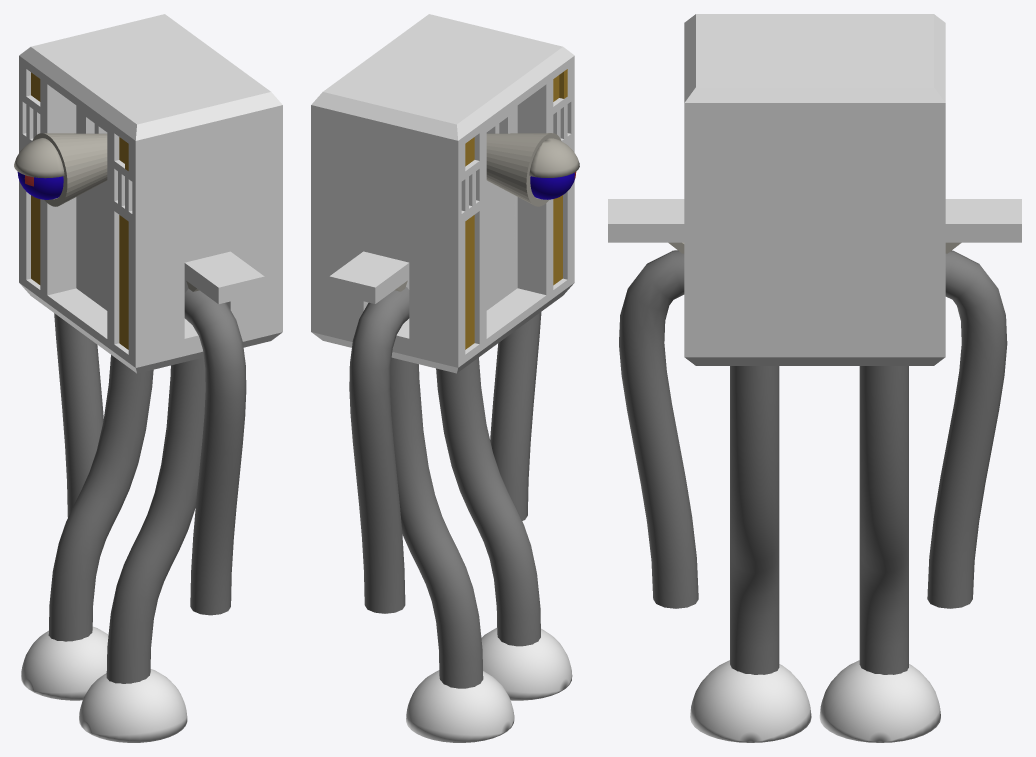
File: robo_buddy_modo_standing.fbx
The picture shows the model from 3 angles, left to right: view 1: azimuth 30°, elevation 25°; view 2: azimuth 150°, elevation 25°; view 3: azimuth 270°, elevation 25°; orthographic projection. The views are drawn at different scales.
Visible parts, largest first — view 1: cuerpo, pierna izquierda.001, BezierCurve.001, pierna derecha.001, BezierCurve, Sphere.002, Sphere.003, Cylinder, Cube.002, Sphere.001, ojo; view 2: cuerpo, BezierCurve, pierna derecha.001, pierna izquierda.001, BezierCurve.001, Sphere.003, Sphere.002, Cylinder, Cube.001, Sphere.001, ojo; view 3: cuerpo, BezierCurve.001, BezierCurve, pierna derecha.001, pierna izquierda.001, Sphere.002, Sphere.003, Cube.001, Cube.002.
Part boxes in pixels (x1,y1,x2,y2): cuerpo: [19, 14, 282, 373]; pierna izquierda.001: [106, 357, 205, 683]; BezierCurve.001: [184, 289, 246, 615]; pierna derecha.001: [48, 355, 153, 641]; BezierCurve: [54, 313, 103, 516]; Sphere.002: [79, 669, 187, 742]; Sphere.003: [21, 626, 108, 700]; Cylinder: [32, 133, 107, 206]; Cube.002: [184, 251, 264, 304]; Sphere.001: [14, 138, 64, 178]; ojo: [17, 172, 63, 199]; cuerpo: [311, 14, 574, 373]; BezierCurve: [349, 287, 409, 613]; pierna derecha.001: [390, 357, 483, 688]; pierna izquierda.001: [436, 357, 540, 646]; BezierCurve.001: [490, 312, 541, 520]; Sphere.003: [406, 670, 514, 742]; Sphere.002: [481, 628, 572, 700]; Cylinder: [486, 133, 561, 206]; Cube.001: [329, 251, 409, 303]; Sphere.001: [529, 138, 579, 177]; ojo: [530, 172, 576, 199]; cuerpo: [684, 14, 945, 365]; BezierCurve.001: [619, 250, 698, 608]; BezierCurve: [927, 250, 1007, 608]; pierna derecha.001: [859, 366, 908, 674]; pierna izquierda.001: [730, 366, 779, 674]; Sphere.002: [690, 660, 811, 742]; Sphere.003: [819, 660, 940, 742]; Cube.001: [945, 199, 1021, 242]; Cube.002: [608, 199, 684, 242].
Size of the model in its own units: 152 by 436 by 236.
